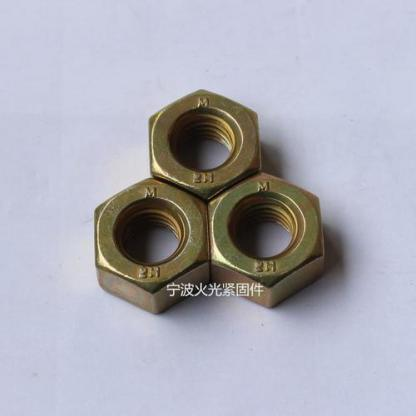FOD: (207, 169, 325, 312), (94, 174, 213, 314), (147, 85, 262, 200)
